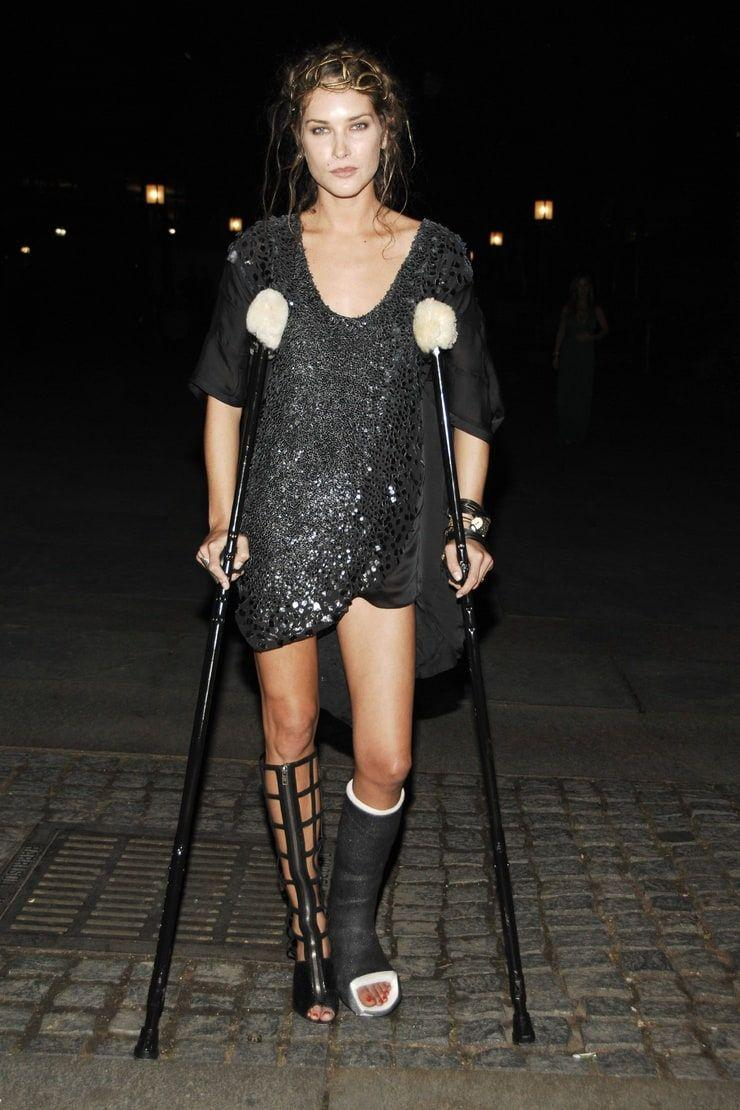crutches: (132, 43, 539, 1061)
